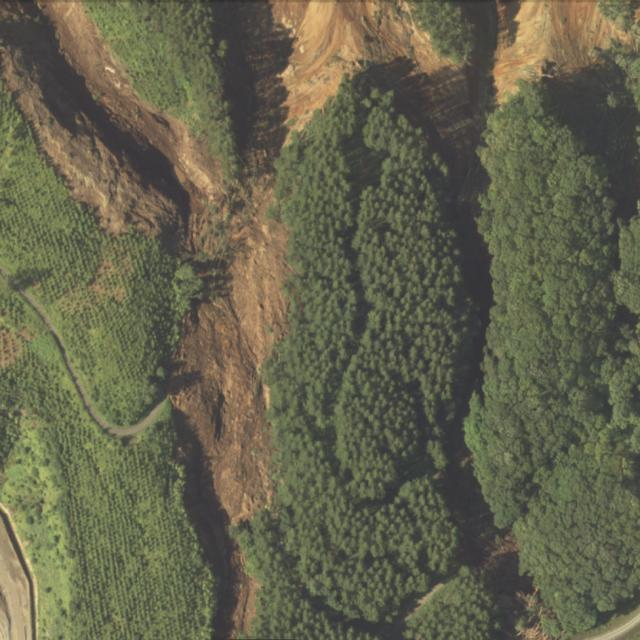landslide: (0, 0, 614, 636)
